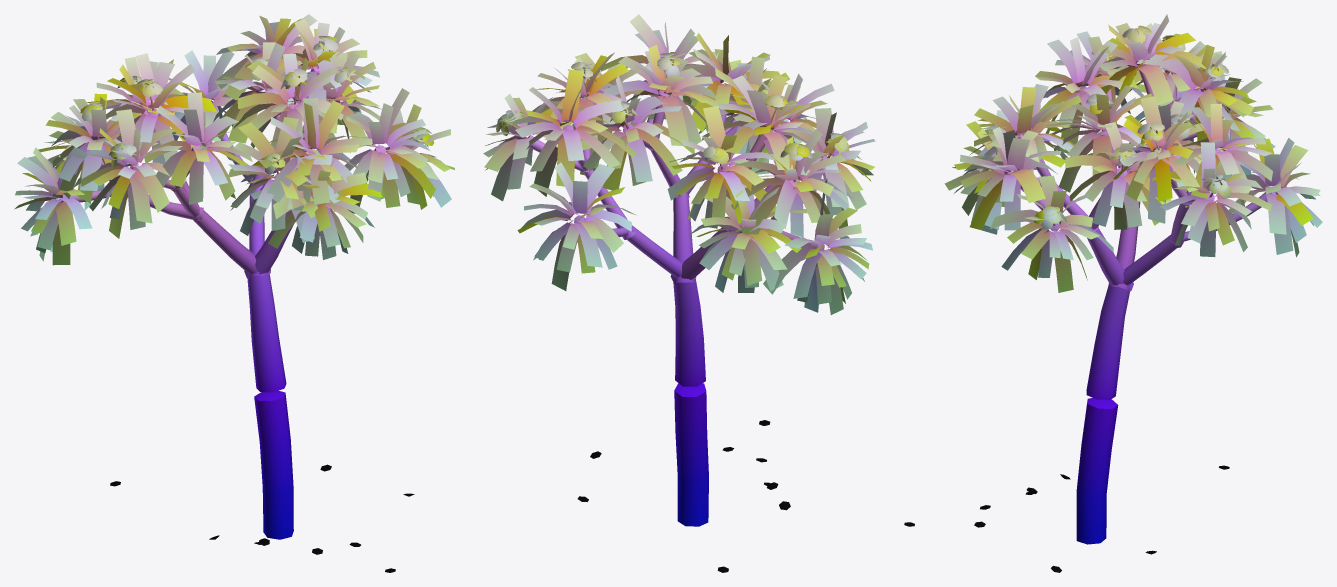
The model's file is frangipani_b.glb.
3 views of the same model, side by side, from view 1: azimuth 30°, elevation 25°; view 2: azimuth 150°, elevation 25°; view 3: azimuth 270°, elevation 25° (orthographic). The views are drawn at different scales.
Visible parts, largest first — view 1: frangipani_b; view 2: frangipani_b; view 3: frangipani_b.
Part boxes in pixels (x1,y1,x2,y2): frangipani_b: [14, 14, 454, 572]; frangipani_b: [483, 14, 875, 572]; frangipani_b: [904, 14, 1322, 572].
Size of what is drawn, in the model's own units: 2.74 by 3.43 by 2.75.
